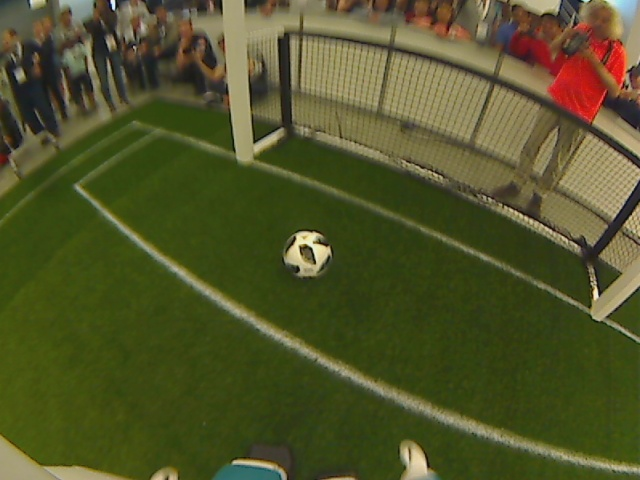ball: (280, 229, 334, 279)
